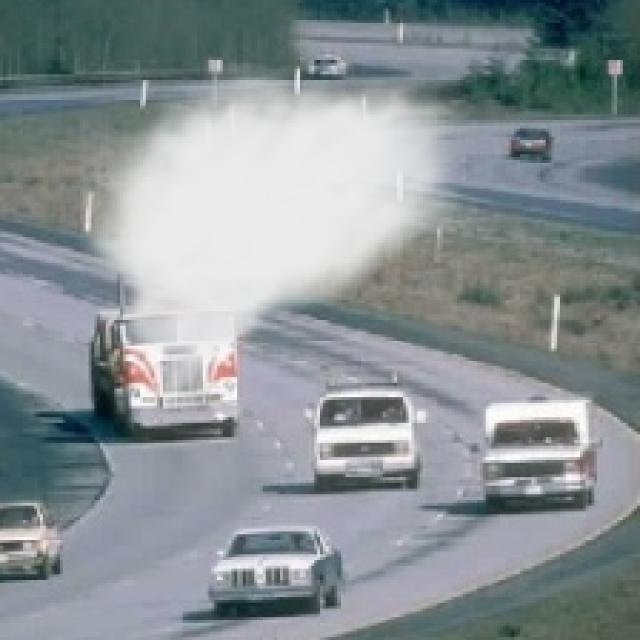smoke: (71, 60, 480, 426)
